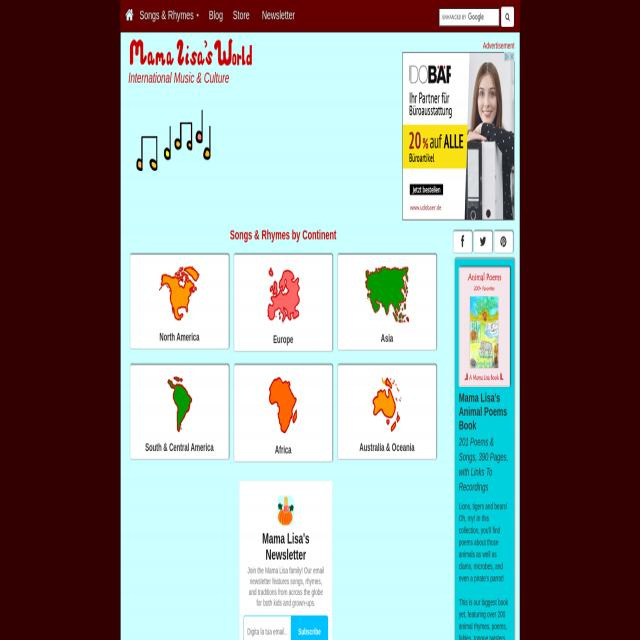button: (402, 54, 516, 220), (130, 364, 230, 460), (234, 255, 332, 352), (235, 363, 333, 460), (338, 362, 437, 458), (337, 255, 436, 349), (130, 254, 228, 348), (459, 267, 510, 387), (129, 110, 211, 174), (129, 38, 253, 67), (134, 0, 204, 30), (254, 2, 300, 30), (290, 615, 328, 640), (204, 0, 228, 30), (229, 0, 252, 29), (120, 0, 135, 32), (494, 231, 513, 253), (453, 231, 472, 253), (474, 231, 492, 253), (501, 6, 514, 27), (504, 52, 509, 61), (510, 52, 514, 61)
field: (439, 8, 499, 26), (244, 617, 290, 640)
